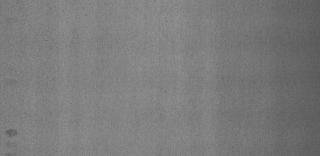oil spot: (4, 128, 20, 142)
